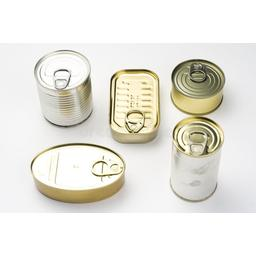metal: (25, 39, 102, 127), (90, 56, 162, 148), (152, 115, 231, 196), (163, 48, 228, 118)
